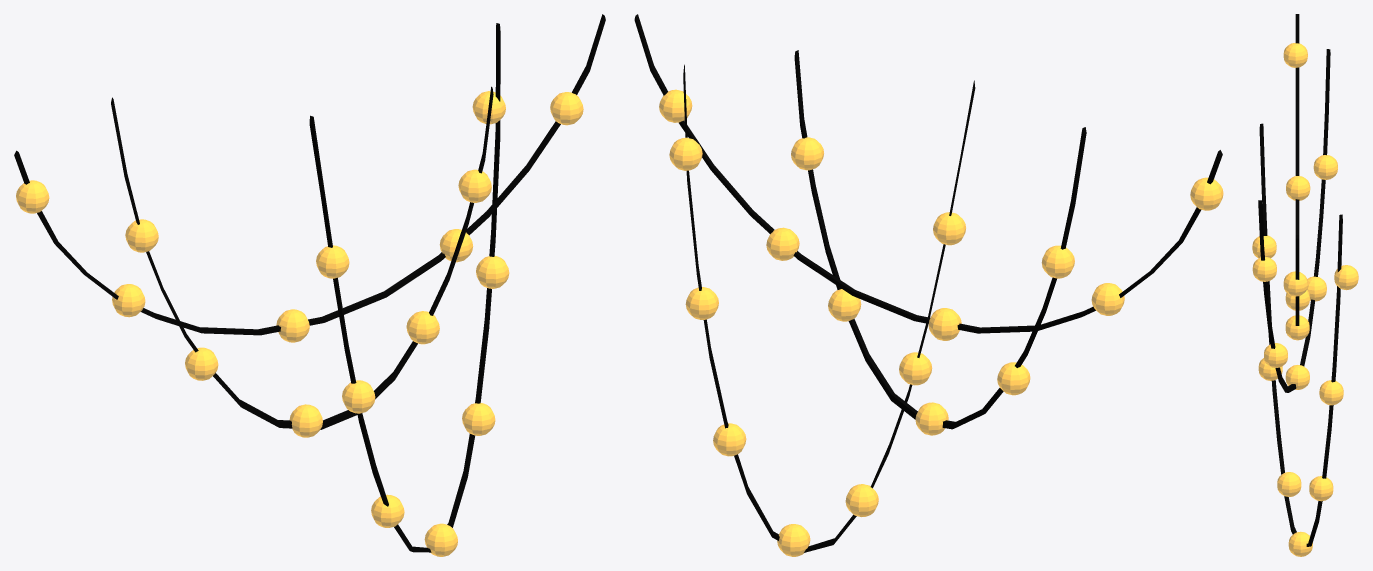
Rendered from fairy_lights.glb.
3 renders of one model, left to right at view 1: azimuth 30°, elevation 25°; view 2: azimuth 150°, elevation 25°; view 3: azimuth 270°, elevation 25°, orthographic. The views are drawn at different scales.
Visible parts, largest first — view 1: Fairy_Lights; view 2: Fairy_Lights; view 3: Fairy_Lights.
Boxes of the visible parts, bbox=[...] form: Fairy_Lights: bbox=[14, 14, 605, 556]; Fairy_Lights: bbox=[634, 14, 1223, 556]; Fairy_Lights: bbox=[1252, 14, 1358, 556].
Size of the model in its own units: 0.0661 by 0.0557 by 0.0137.
